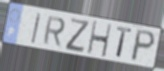H: (86, 20, 113, 59)
I: (30, 11, 43, 46)
P: (129, 28, 157, 63)
R: (41, 15, 66, 48)
T: (115, 25, 133, 60)
Z: (63, 17, 91, 54)
